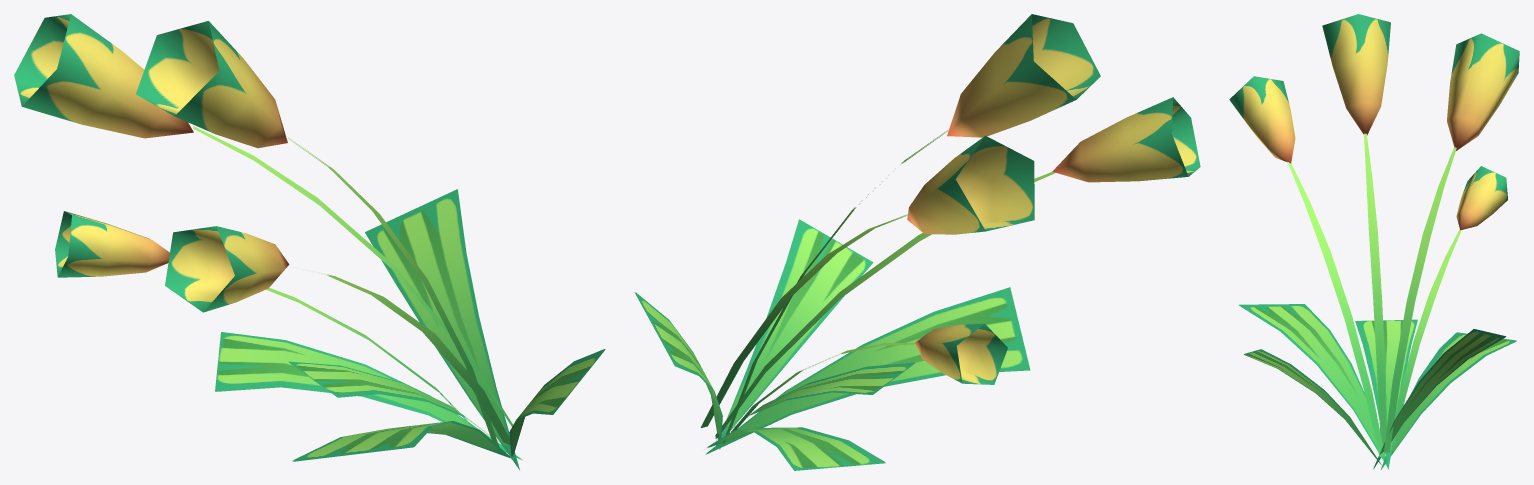
Rendered from Fbx_Tulip_01.fbx.
3 views of the same model, side by side, from view 1: azimuth 30°, elevation 25°; view 2: azimuth 150°, elevation 25°; view 3: azimuth 270°, elevation 25° (orthographic). The views are drawn at different scales.
Parts seen in each view (by area): view 1: Fbx_Tulip_01; view 2: Fbx_Tulip_01; view 3: Fbx_Tulip_01.
Boxes of the visible parts, x1=… form: Fbx_Tulip_01: x1=14, y1=14, x2=605, y2=470; Fbx_Tulip_01: x1=634, y1=14, x2=1200, y2=470; Fbx_Tulip_01: x1=1229, y1=14, x2=1519, y2=469.
Bounding box in the file's own units: 107 × 124 × 92.51.
Materials: 1 (1 with a texture image).
